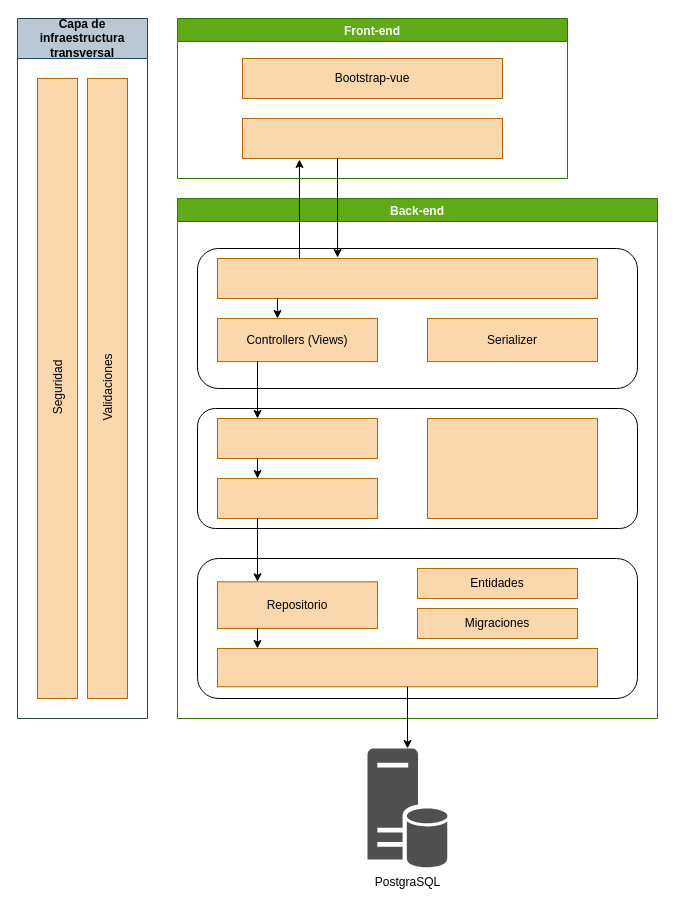
Some shapes in this 675 by 907 pixel diagram are drawn without their labels. The shapes that lost their labels are listed below. From the top down, each one's centre as x and y in pixels, then its label:
point 372,138: Vue.js
point 407,278: Jwt (Seguridad)
point 297,438: Validación de modelo
point 512,468: Capa de Negocio
point 297,498: Servicios (Implementación)
point 407,667: Persistencia (Hibernate)
